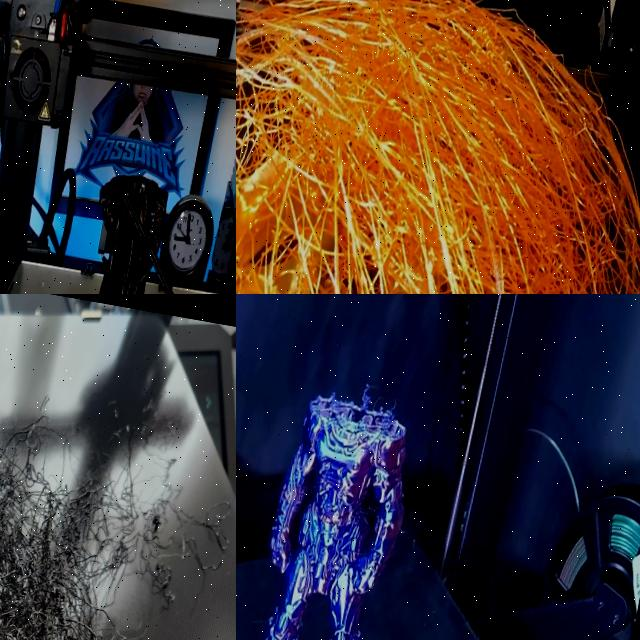spaghetti: (236, 0, 640, 294), (0, 419, 189, 640), (97, 374, 236, 574)
